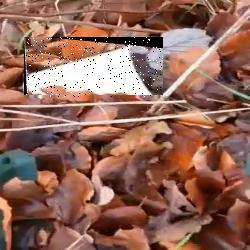restaffald: (24, 38, 163, 98)
